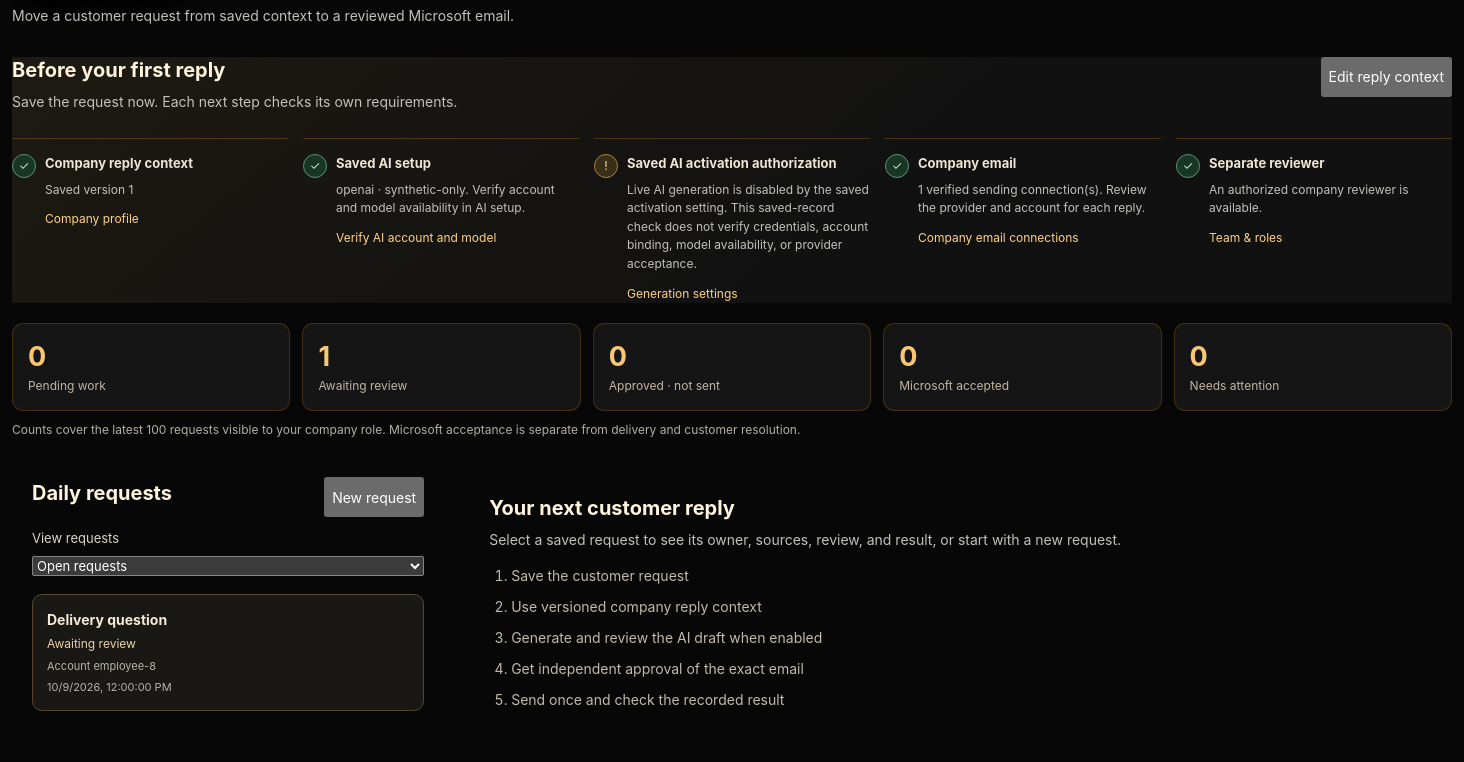
Test: pinned AI requests and exact reviewed email › blocks the requester from independently approving
(page scrolled)
Click the button "Delivery question" at (107, 619), box [32,594,424,711]
(page scrolled)
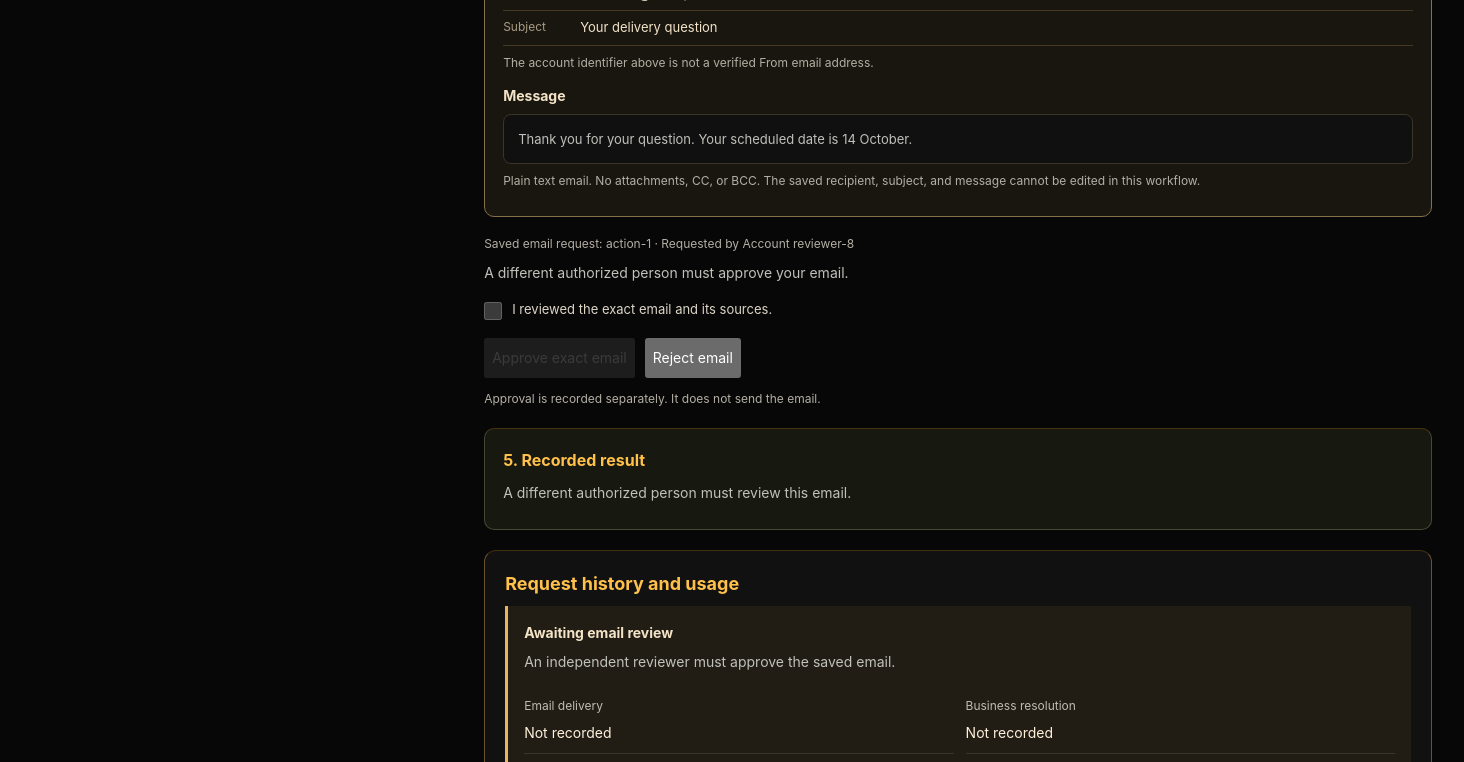
Now the button "Approve exact email" is disabled, box [484,338,635,378]
